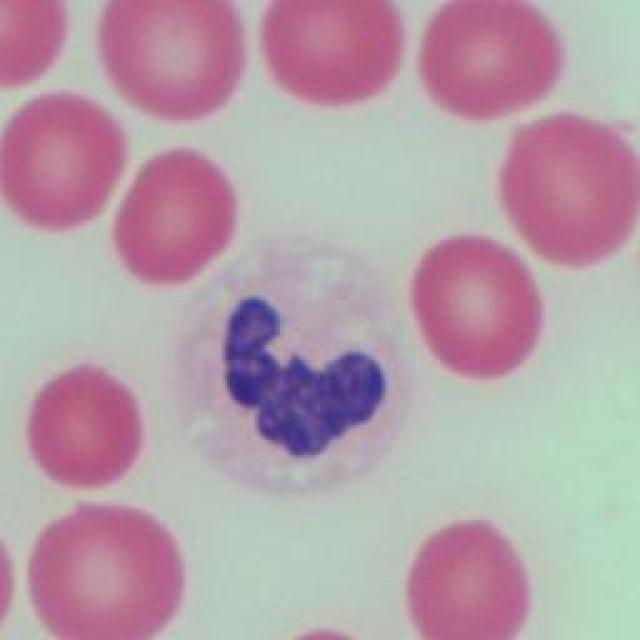RBC: (500, 111, 640, 274), (28, 505, 182, 640), (410, 235, 545, 383), (95, 0, 247, 120), (1, 90, 124, 235), (416, 0, 561, 122), (114, 148, 238, 288), (258, 0, 406, 112), (405, 517, 530, 640), (27, 361, 145, 491), (0, 0, 68, 90)
WBC: (168, 235, 414, 497)
